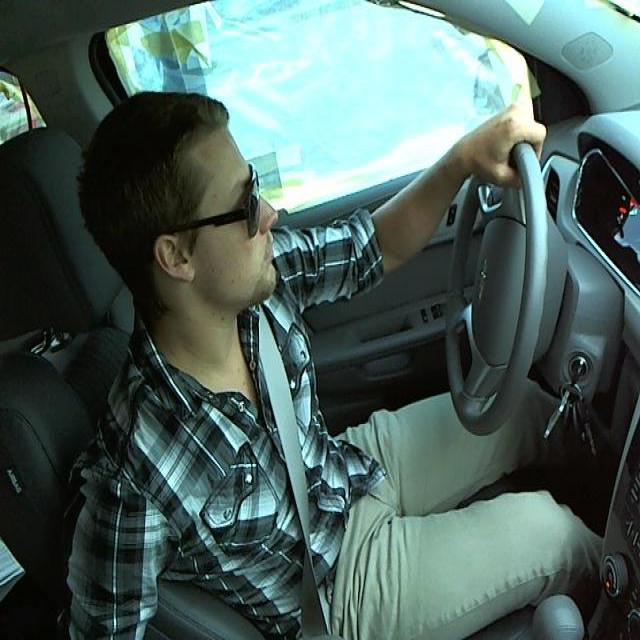seatbelt: (243, 325, 361, 639)
